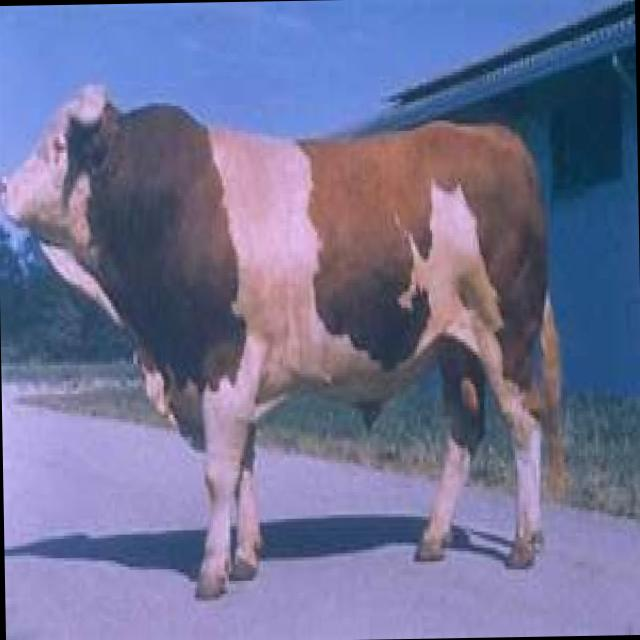animal: (0, 23, 609, 607)
